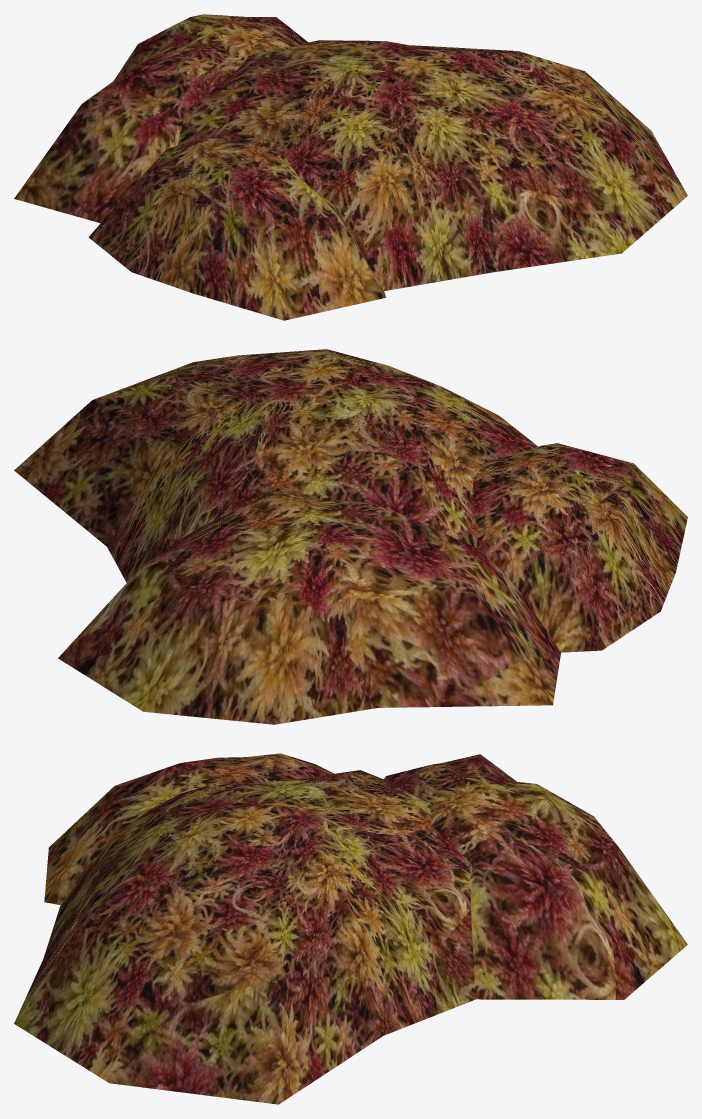
File: veg_sphagnum.glb
The picture shows the model from 3 angles, top to bottom: view 1: azimuth 30°, elevation 25°; view 2: azimuth 150°, elevation 25°; view 3: azimuth 270°, elevation 25°; orthographic projection. The views are drawn at different scales.
Parts seen in each view (by area): view 1: veg_sphagnum; view 2: veg_sphagnum; view 3: veg_sphagnum.
Boxes of the visible parts, left/top/right/bottom form: veg_sphagnum: left=14, top=14, right=687, bottom=320; veg_sphagnum: left=14, top=349, right=687, bottom=724; veg_sphagnum: left=14, top=753, right=687, bottom=1104.
Size of the model in its own units: 1.25 by 0.3 by 1.19.
Materials: 1 (1 with a texture image).
